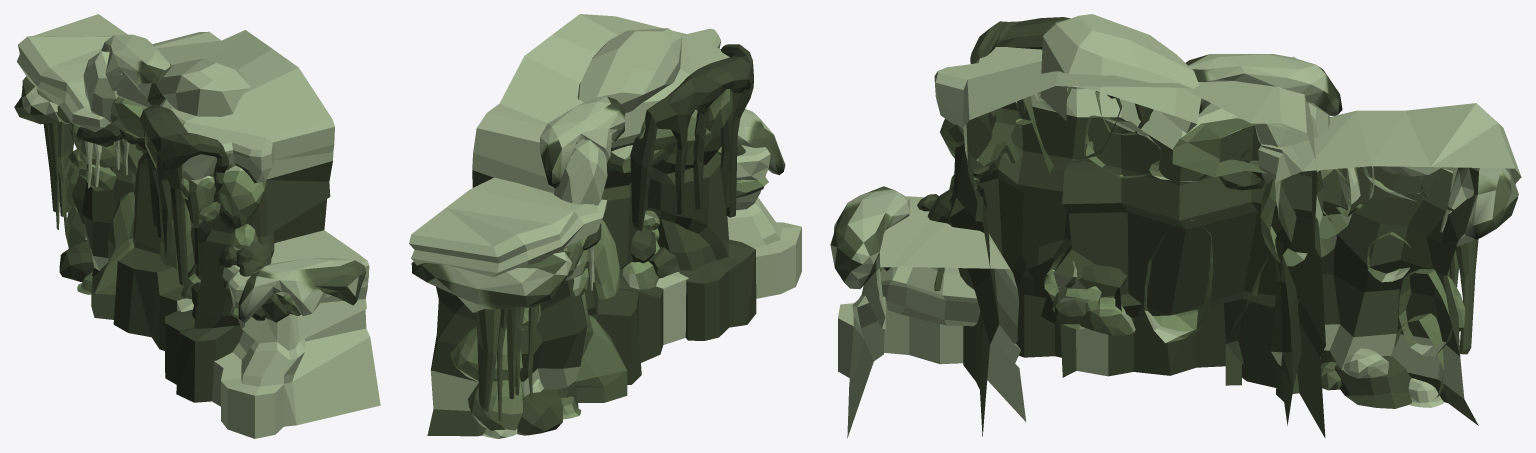
Rendered from EA_Swamp_Wall_04alt.glb.
The picture shows the model from 3 angles, left to right: view 1: azimuth 30°, elevation 25°; view 2: azimuth 150°, elevation 25°; view 3: azimuth 270°, elevation 25°; orthographic projection. The views are drawn at different scales.
Parts seen in each view (by area): view 1: EA_Swamp_Wall_04alt; view 2: EA_Swamp_Wall_04alt; view 3: EA_Swamp_Wall_04alt.
Part boxes in pixels (x1,y1,x2,y2): EA_Swamp_Wall_04alt: (14,14,380,438); EA_Swamp_Wall_04alt: (409,14,801,438); EA_Swamp_Wall_04alt: (830,14,1521,438).
Bounding box in the file's own units: 8.63 × 15.44 × 26.29.
1 material, 1 textured.
